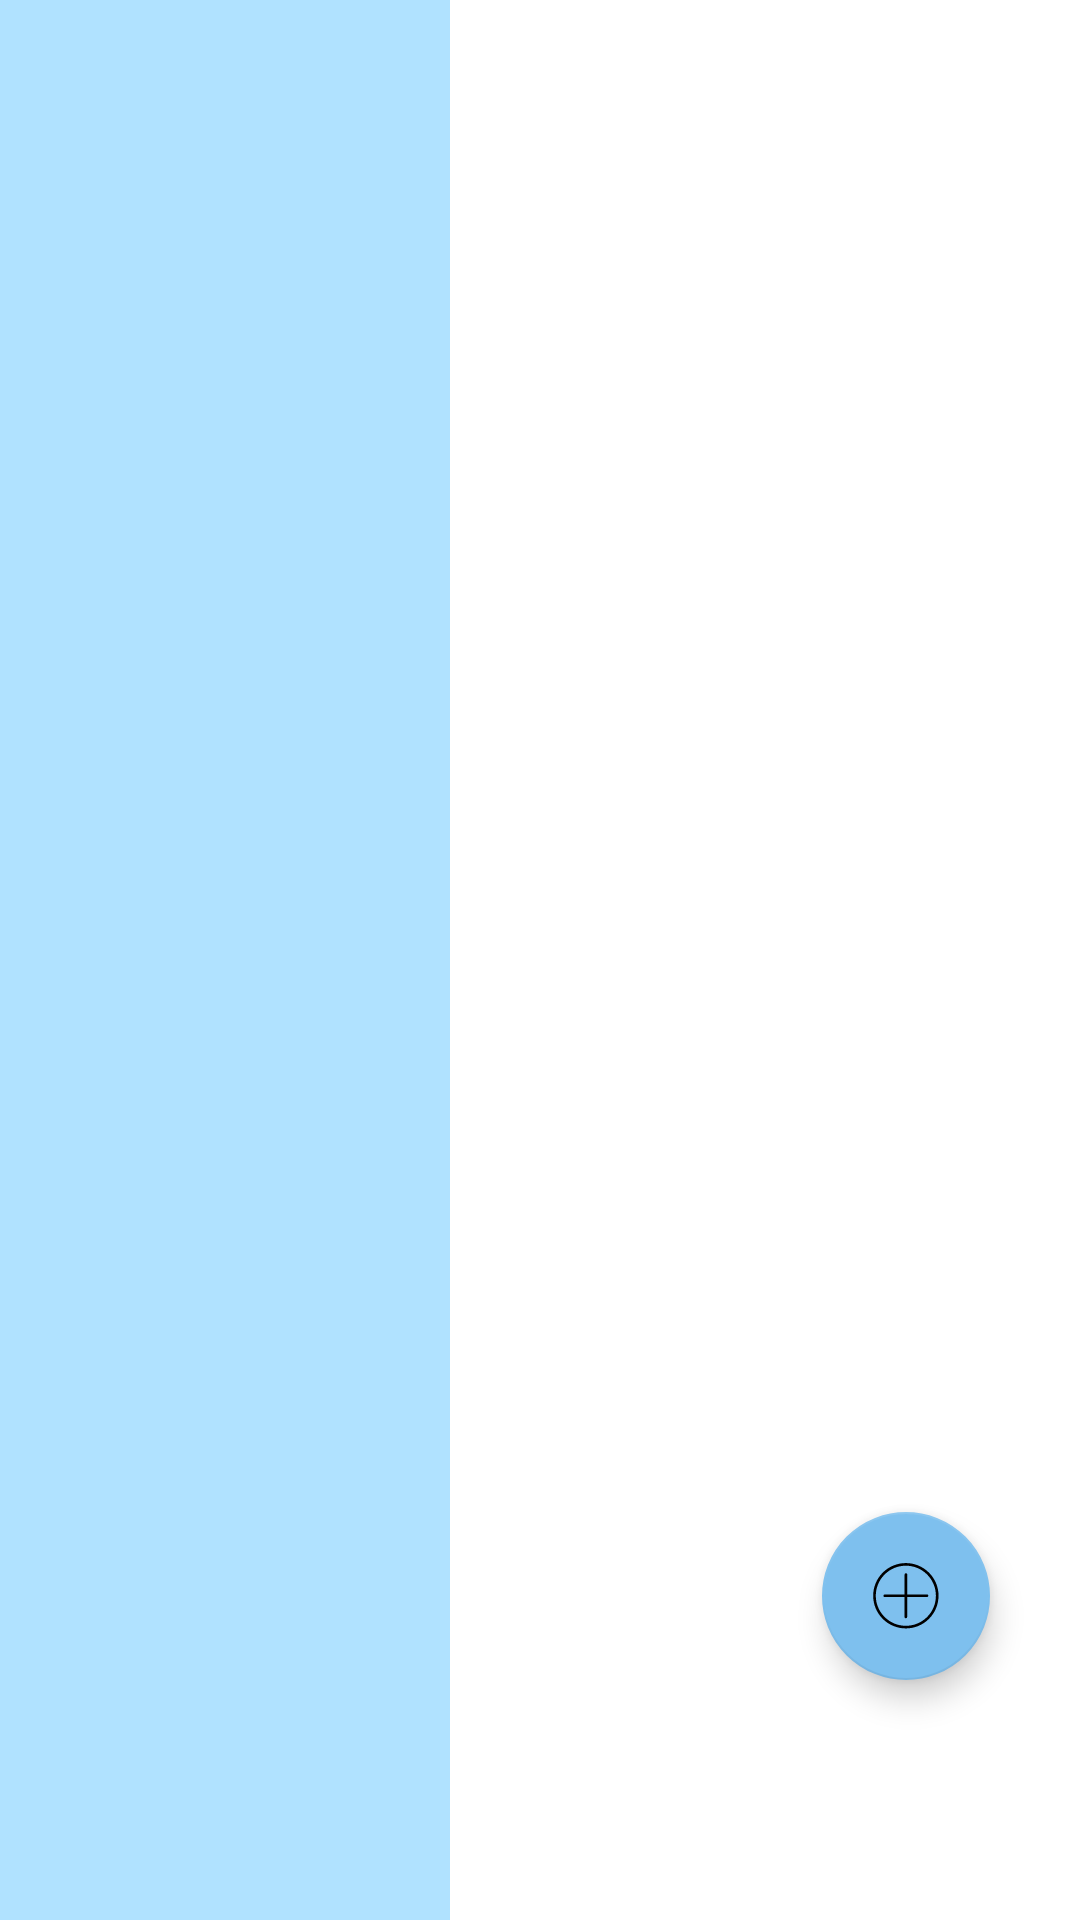

Where icons sit on this 1080 x 1920 app screen, as (x1, y1, x2, y2):
add: (822, 1512, 990, 1680)
